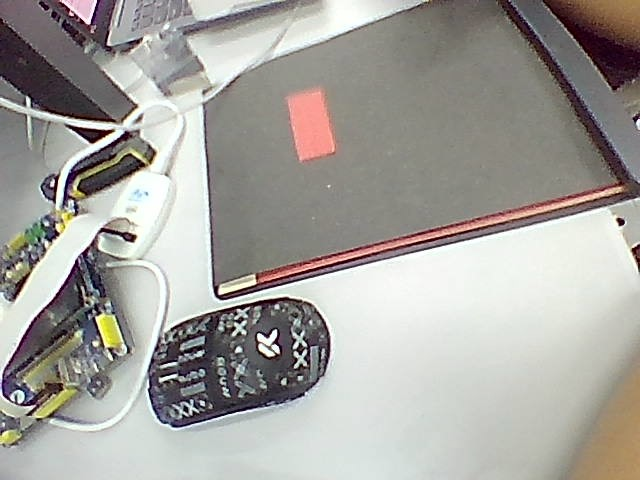card: (289, 88, 335, 162)
